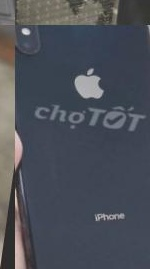scratch: (33, 47, 44, 58)
